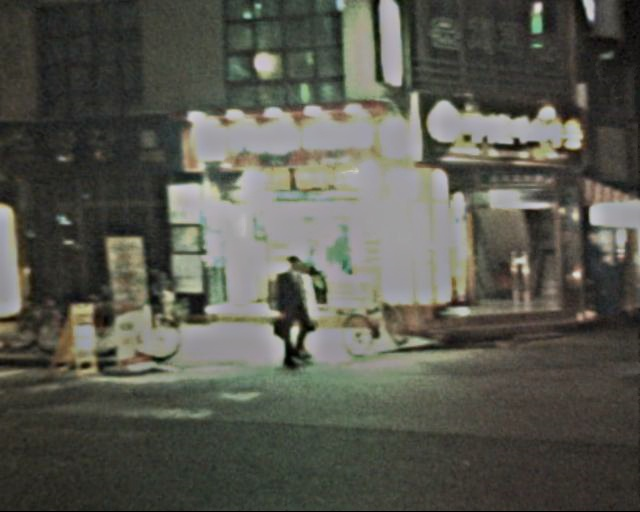person: (254, 255, 318, 369)
